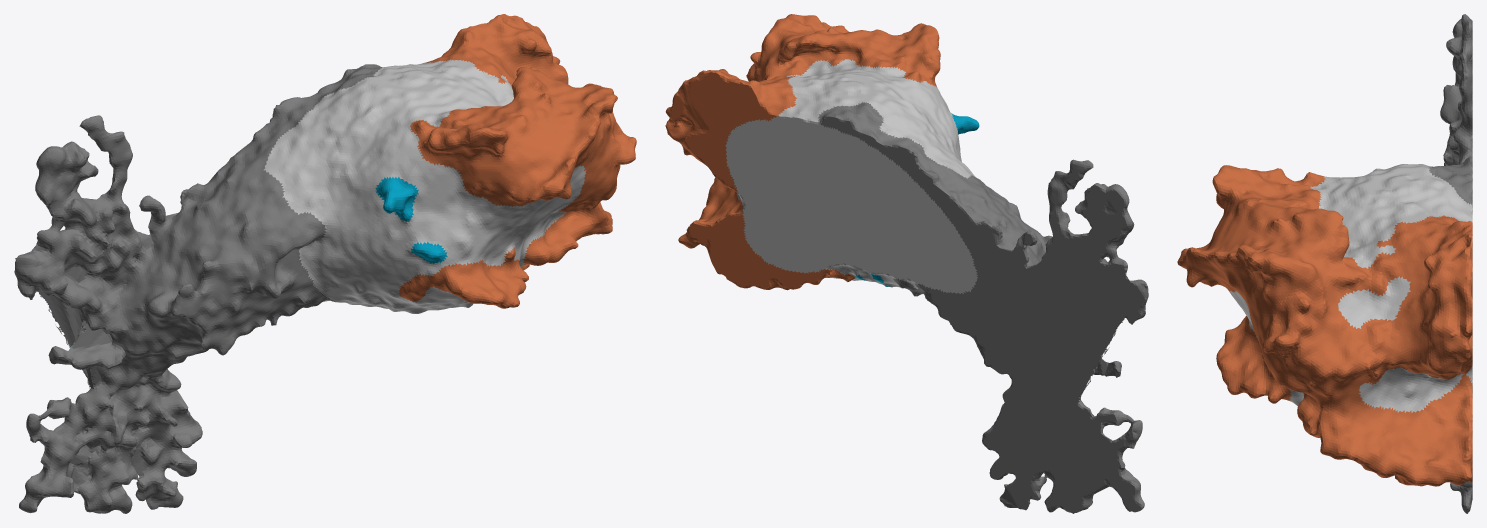
3 renders of one model, left to right at view 1: azimuth 30°, elevation 25°; view 2: azimuth 150°, elevation 25°; view 3: azimuth 270°, elevation 25°, orthographic. The views are drawn at different scales.
Bounding box in the file's own units: 192 × 140 × 82.38.
